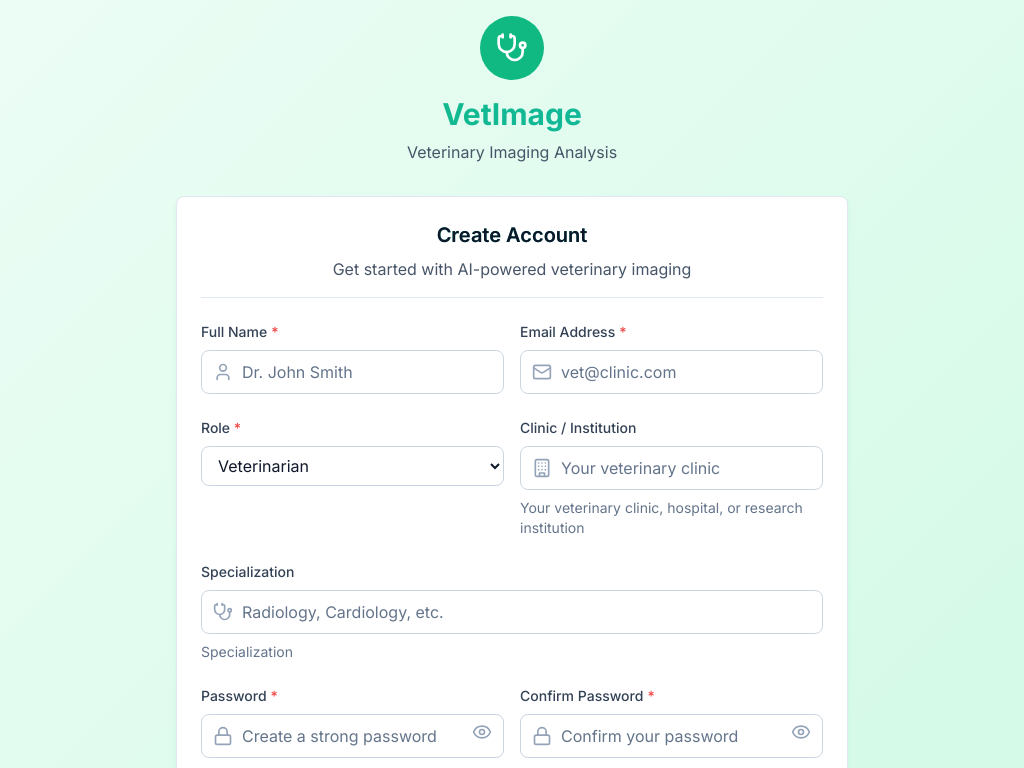
RegisterPage › switches to the Research Area field for the researcher role
The image size is (1024, 768).
Step 1. Select "Researcher" in the dropdown labelled "Role *" → (352, 466), box [201,446,504,486]
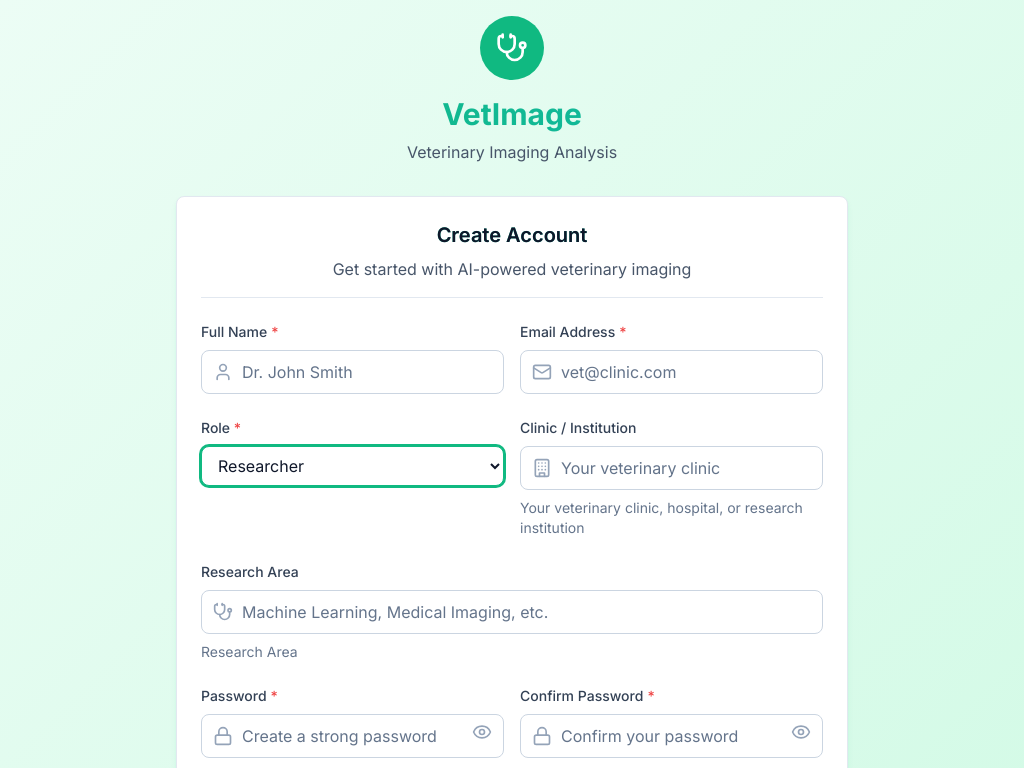
expect the field labelled "Research Area" is shown: met, box [201,590,823,634]
